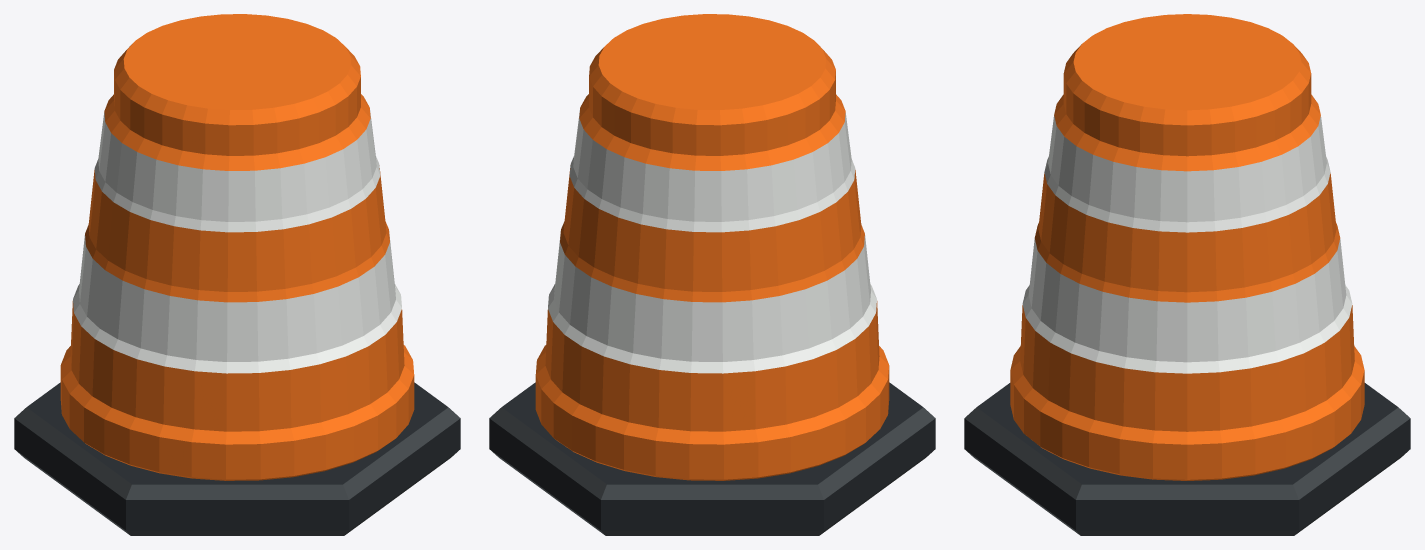
Rendered from construction_barrel.fbx.
3 renders of one model, left to right at view 1: azimuth 30°, elevation 25°; view 2: azimuth 150°, elevation 25°; view 3: azimuth 270°, elevation 25°, orthographic.
Parts seen in each view (by area): view 1: ConstructionBarrel; view 2: ConstructionBarrel; view 3: ConstructionBarrel.
Boxes of the visible parts, x1,y1,x2,y2 form: ConstructionBarrel: (14,14,460,535); ConstructionBarrel: (489,14,935,535); ConstructionBarrel: (964,14,1410,535).
Bounding box in the file's own units: 0.4462 × 0.504 × 0.5152.
